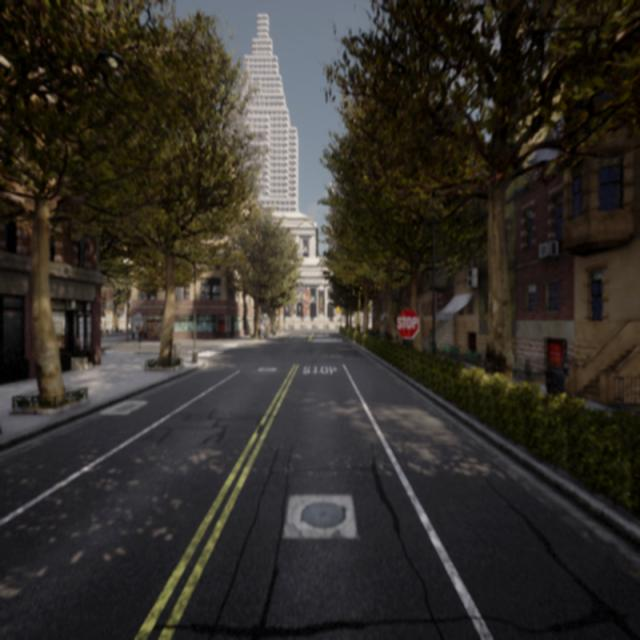stop sign: (394, 304, 422, 341), (396, 314, 419, 332)
